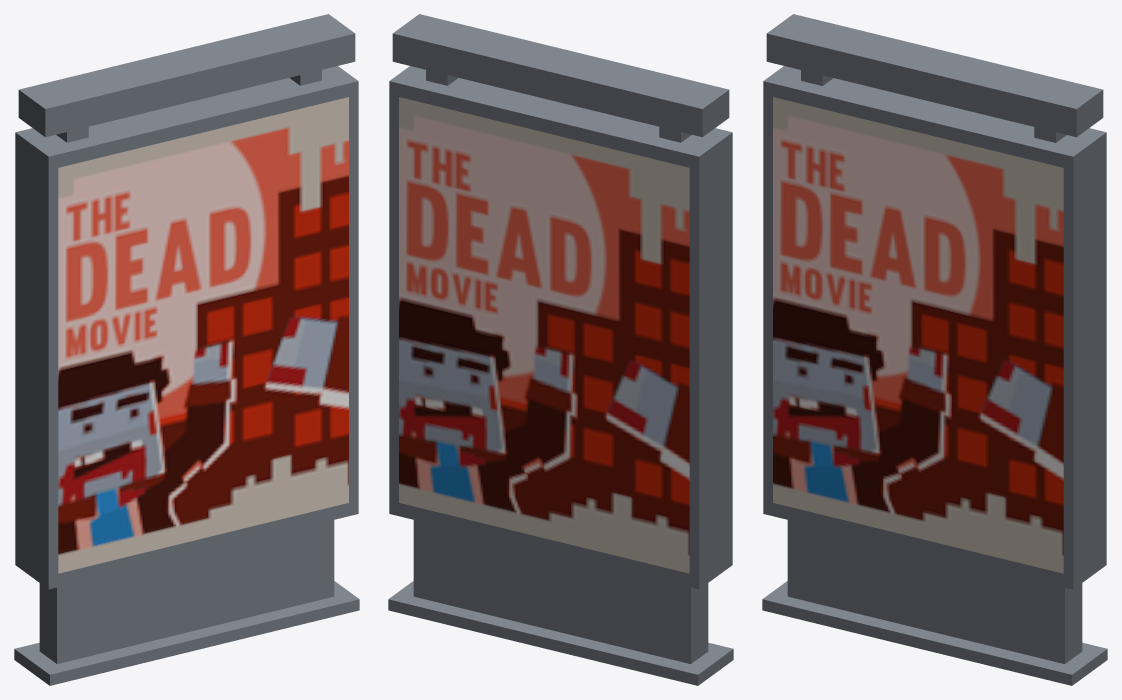
File: SM_Billboard_Panel_02.fbx
3 views of the same model, side by side, from view 1: azimuth 30°, elevation 25°; view 2: azimuth 150°, elevation 25°; view 3: azimuth 330°, elevation 25° (orthographic).
Parts seen in each view (by area): view 1: SM_Billboard_Panel_02; view 2: SM_Billboard_Panel_02; view 3: SM_Billboard_Panel_02.
Part boxes in pixels (x1,y1,x2,y2): SM_Billboard_Panel_02: [14, 14, 359, 685]; SM_Billboard_Panel_02: [388, 14, 733, 685]; SM_Billboard_Panel_02: [762, 14, 1107, 685].
Size of the model in its own units: 2.2 by 3.89 by 0.4375.
